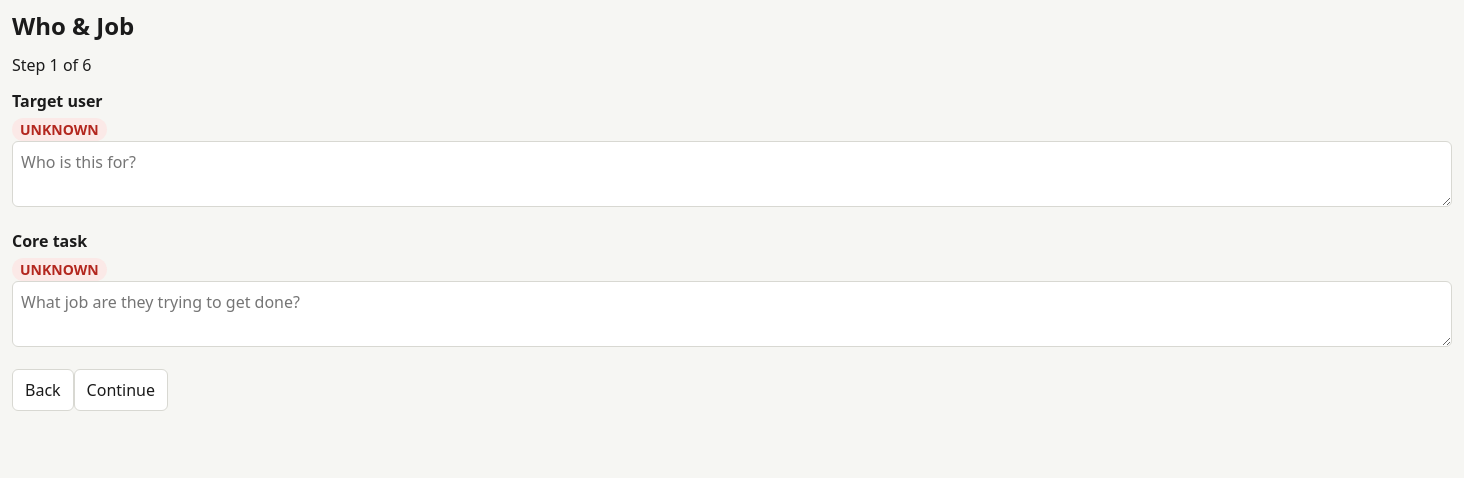
Test: FrameWizardPage › blocks continuation with field-specific errors for UNKNOWN required fields
This screenshot has width=1464, height=478.
Click the button "Continue" at (121, 390), box [74,369,168,411]
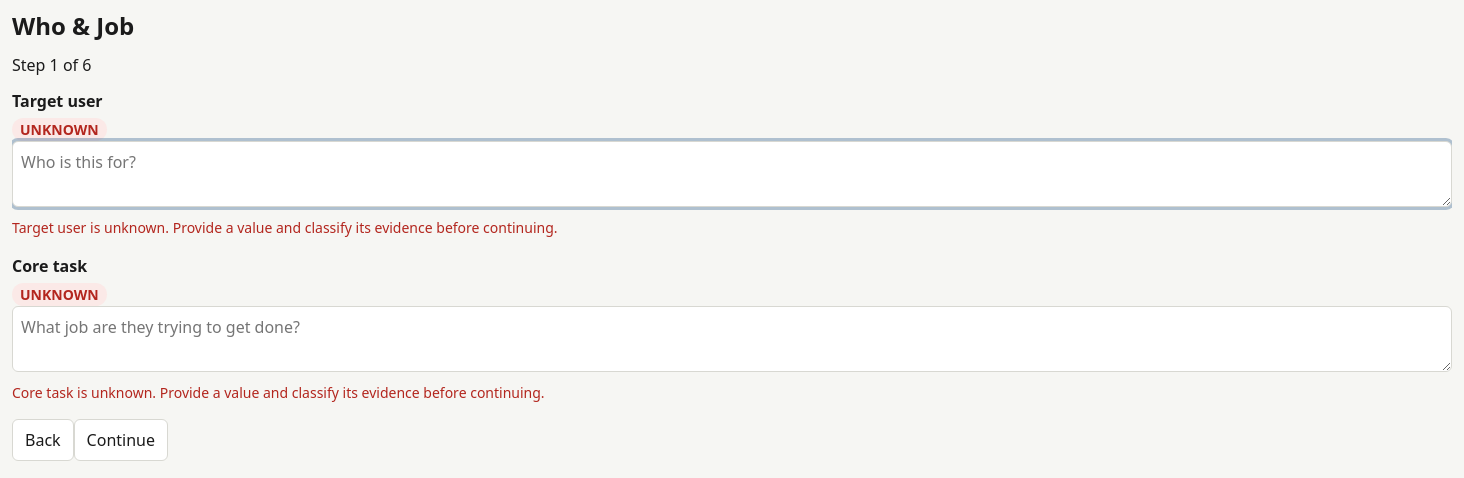
expect the text "Target user is unknown" is shown: met, box [12,218,558,237]
expect the text "Core task is unknown" is shown: met, box [12,383,545,402]
